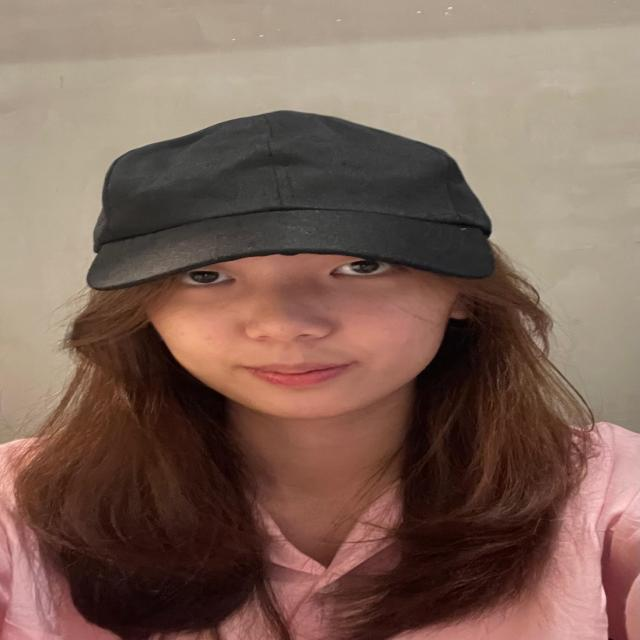3_gorra: (84, 110, 491, 289)
